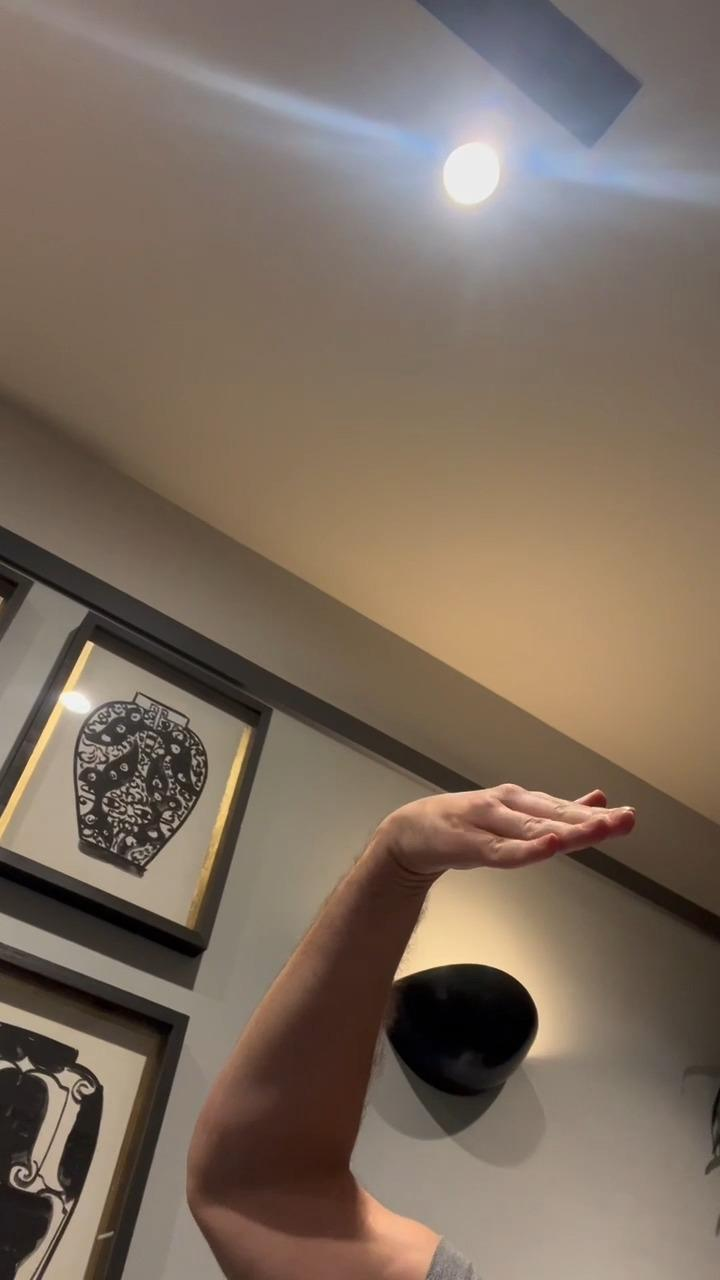Paper: (372, 779, 640, 873)
